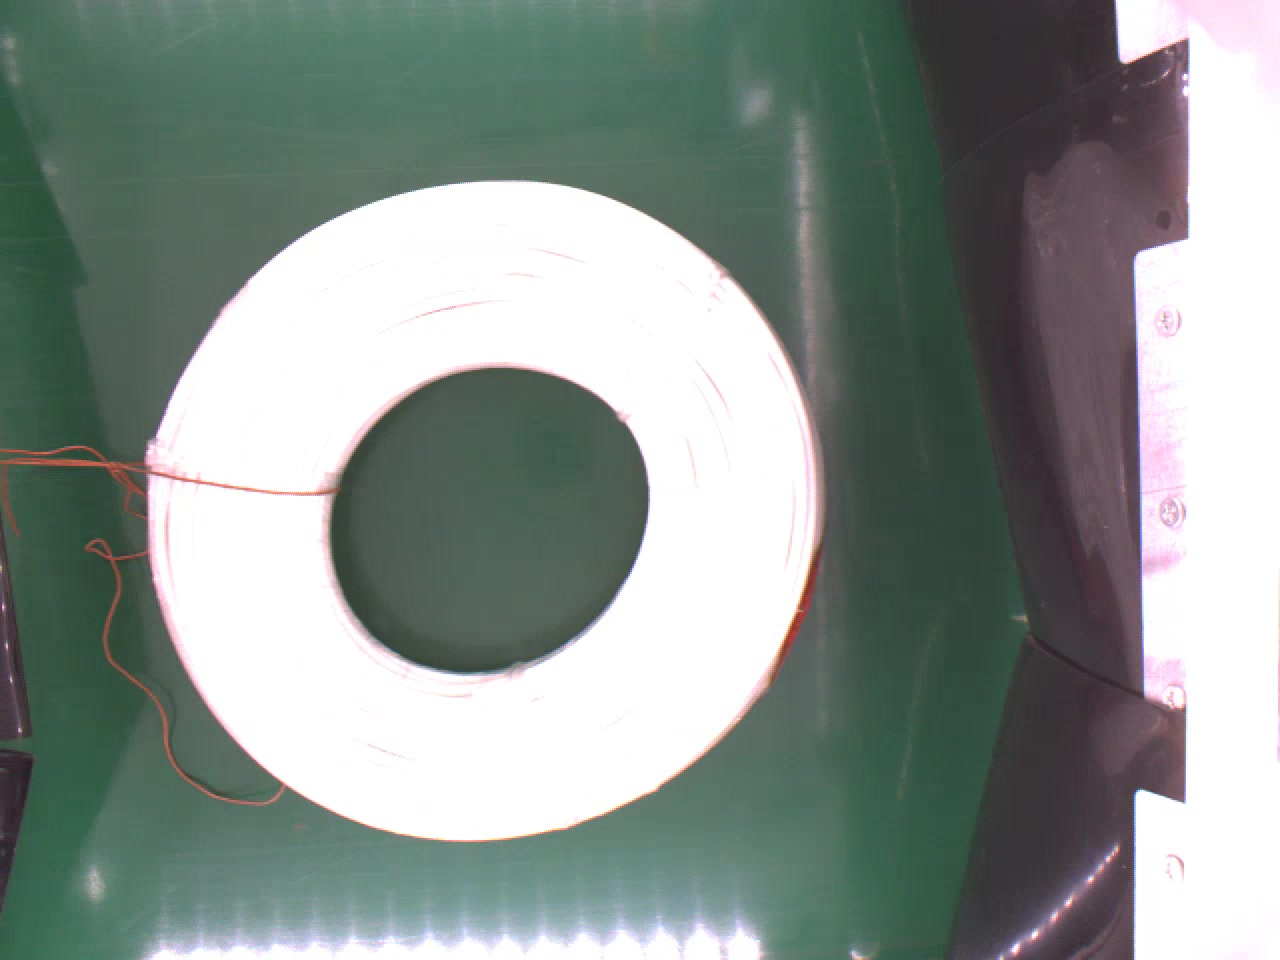white: (148, 177, 821, 846)
